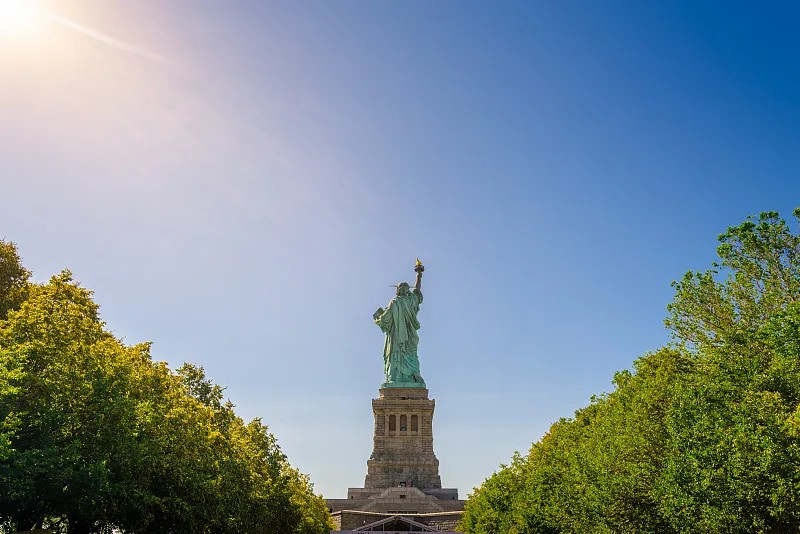SL: (363, 258, 442, 488)
